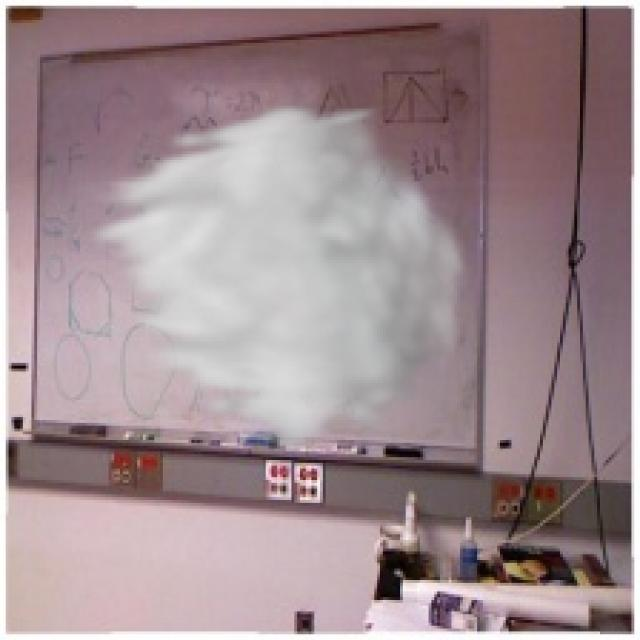smoke: (74, 100, 474, 454)
